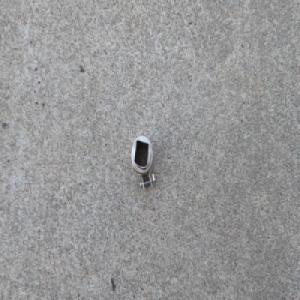MetalPart: (130, 132, 156, 192)
